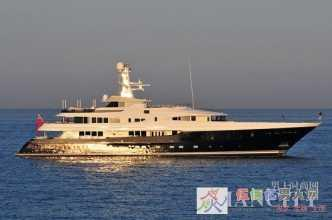yacht: (18, 67, 323, 162)
